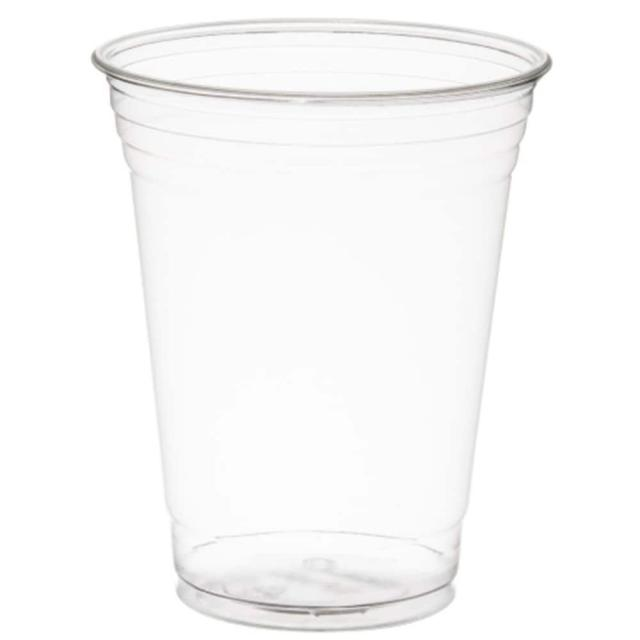plastic cup: (91, 19, 552, 631)
